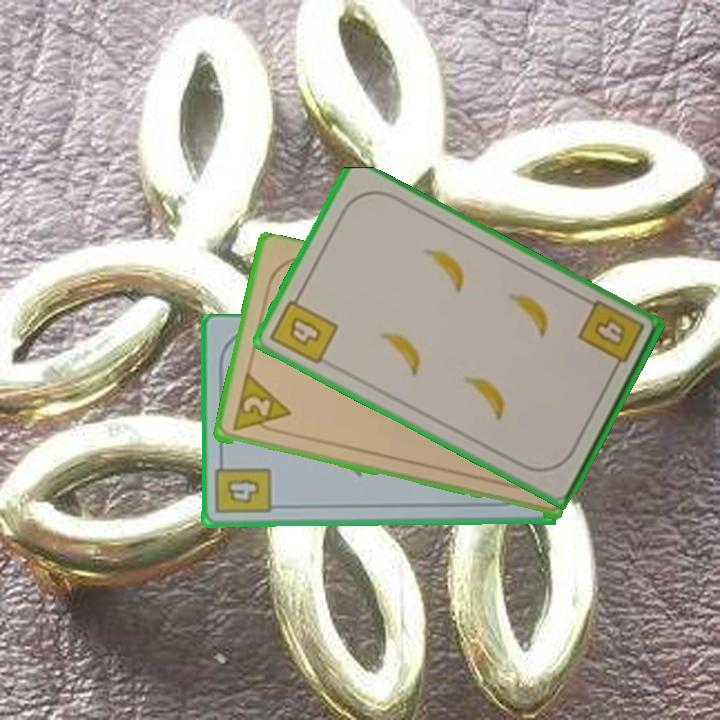2p: (228, 372, 293, 436)
4b: (266, 288, 341, 368), (574, 296, 647, 377), (212, 455, 274, 517)
